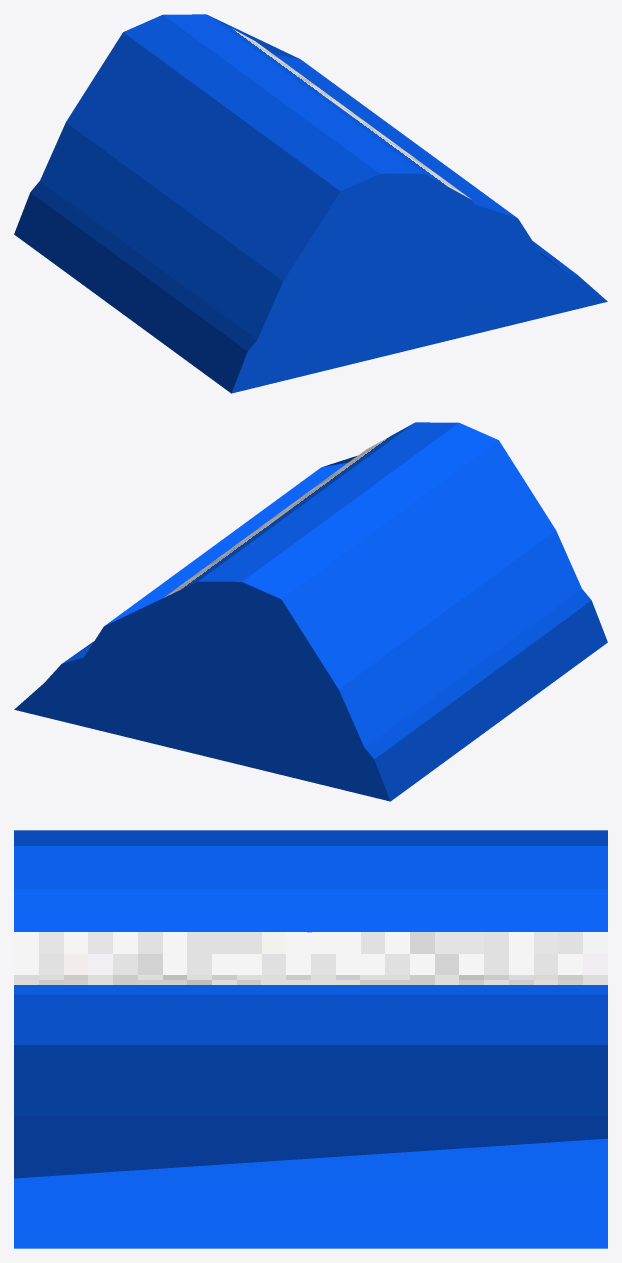
Rendered from WaveAnim.fbx.
The picture shows the model from 3 angles, top to bottom: view 1: azimuth 30°, elevation 25°; view 2: azimuth 150°, elevation 25°; view 3: azimuth 270°, elevation 25°; orthographic projection. The views are drawn at different scales.
Parts seen in each view (by area): view 1: Cube; view 2: Cube; view 3: Cube.
Part boxes in pixels (box(x1,y1,x2,y2)): Cube: box(14, 14, 607, 393); Cube: box(14, 422, 607, 801); Cube: box(14, 830, 607, 1248).
Size of the model in its own units: 200 by 93.09 by 200.
